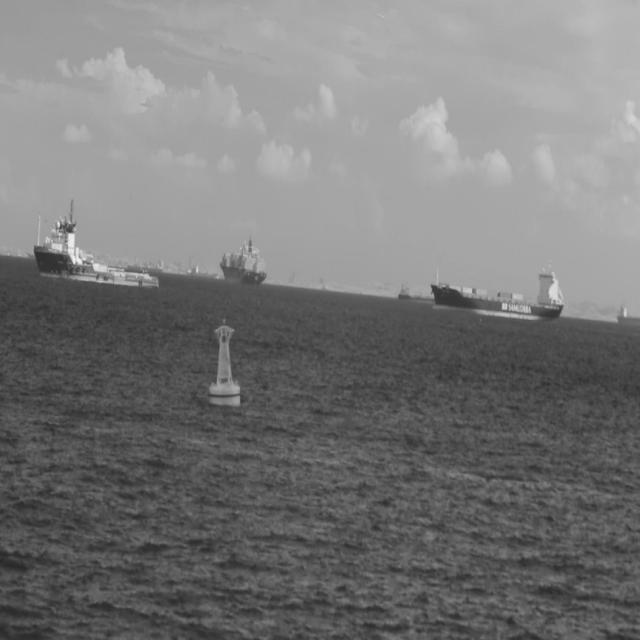buoy: (208, 316, 242, 410)
ship: (33, 198, 161, 290), (430, 261, 564, 324), (219, 232, 268, 288), (397, 282, 433, 306), (122, 258, 166, 276), (186, 262, 218, 282), (139, 264, 152, 278)
